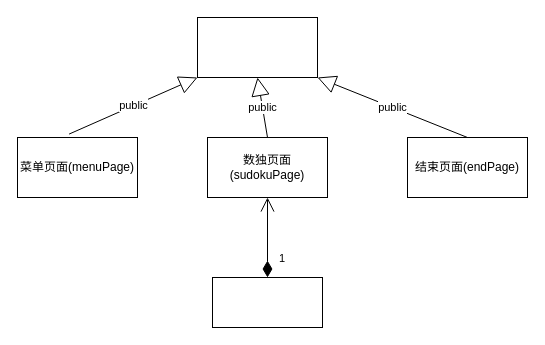
The diagram is 545 pixels wide and 345 high, and some of its shapes have lost their labels. The centre of each missing label's shape, as x and y in pixels:
"数独 (sudoku)" goes at pixel 267 302.
"页面（page）" goes at pixel 257 47.
